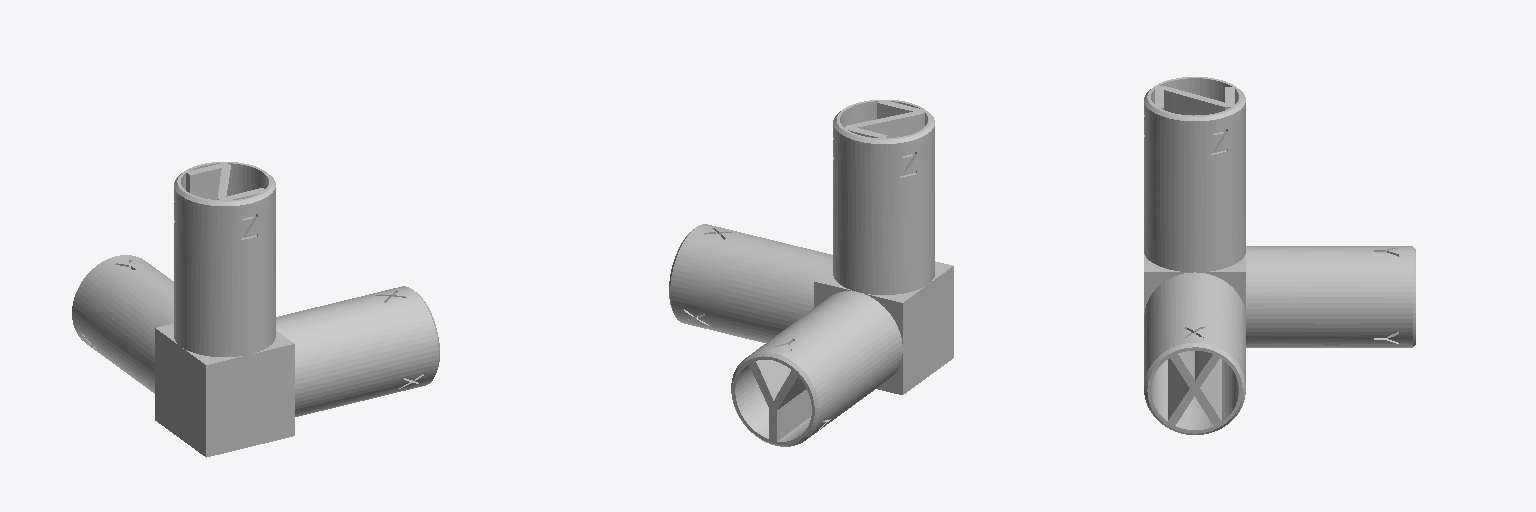
File: axis.obj
3 renders of one model, left to right at view 1: azimuth 30°, elevation 25°; view 2: azimuth 150°, elevation 25°; view 3: azimuth 270°, elevation 25°, orthographic.
Visible parts, largest first — view 1: Xyz_Axis; view 2: Xyz_Axis; view 3: Xyz_Axis.
Boxes of the visible parts, box(x1,y1,x2,y2) form: Xyz_Axis: box(72, 162, 439, 457); Xyz_Axis: box(669, 100, 953, 446); Xyz_Axis: box(1144, 77, 1415, 434).
Bounding box in the file's own units: 0.8 × 0.8 × 0.8.